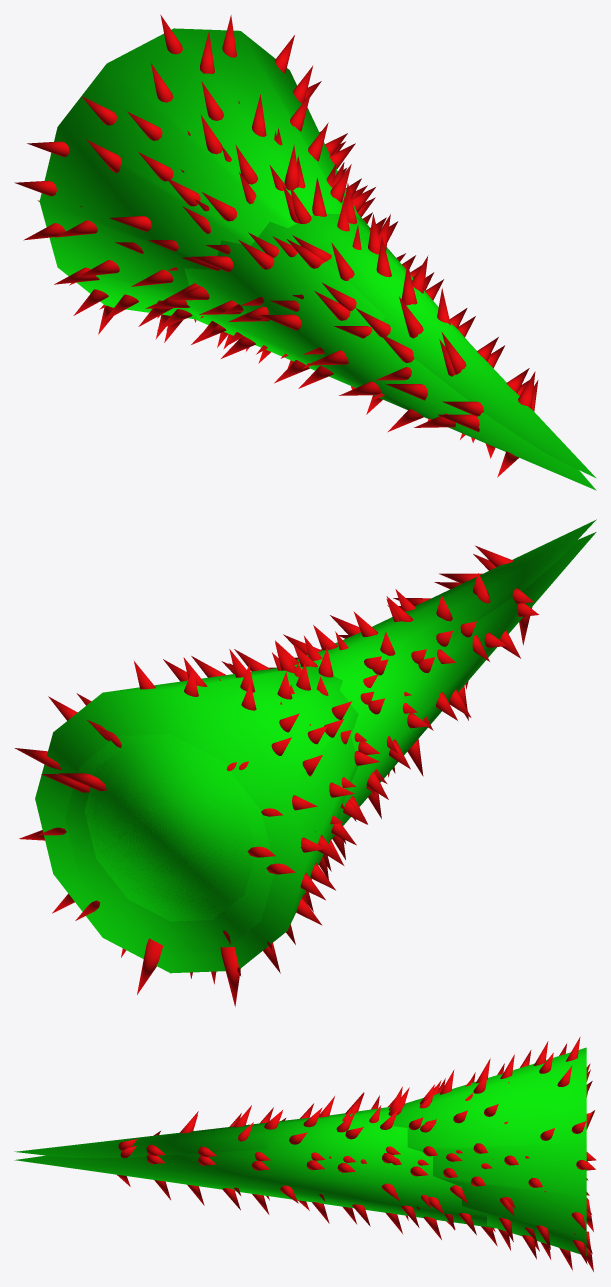
The model's file is Spikes.fbx.
3 renders of one model, top to bottom at view 1: azimuth 30°, elevation 25°; view 2: azimuth 150°, elevation 25°; view 3: azimuth 270°, elevation 25°, orthographic. The views are drawn at different scales.
Parts seen in each view (by area): view 1: Spikes_3, Spikes_2, Spikes_1; view 2: Spikes_3, Spikes_2, Spikes_1; view 3: Spikes_3, Spikes_2, Spikes_1.
Part boxes in pixels (left/top/right/bottom): Spikes_3: left=14, top=14, right=414, bottom=354; Spikes_2: left=37, top=101, right=596, bottom=490; Spikes_1: left=167, top=131, right=596, bottom=478; Spikes_3: left=14, top=631, right=411, bottom=1006; Spikes_2: left=38, top=532, right=596, bottom=978; Spikes_1: left=58, top=519, right=596, bottom=944; Spikes_3: left=329, top=1037, right=593, bottom=1271; Spikes_2: left=14, top=1063, right=595, bottom=1253; Spikes_1: left=14, top=1069, right=596, bottom=1210.
Bounding box in the file's own units: 2.58 × 6.23 × 2.61.
